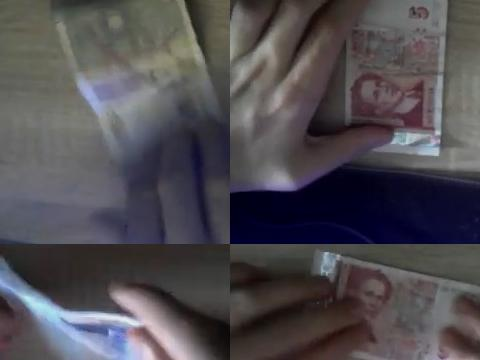10leva: (50, 0, 230, 244)
20leva: (0, 255, 142, 360)
5leva: (315, 0, 450, 156), (311, 250, 480, 360)
